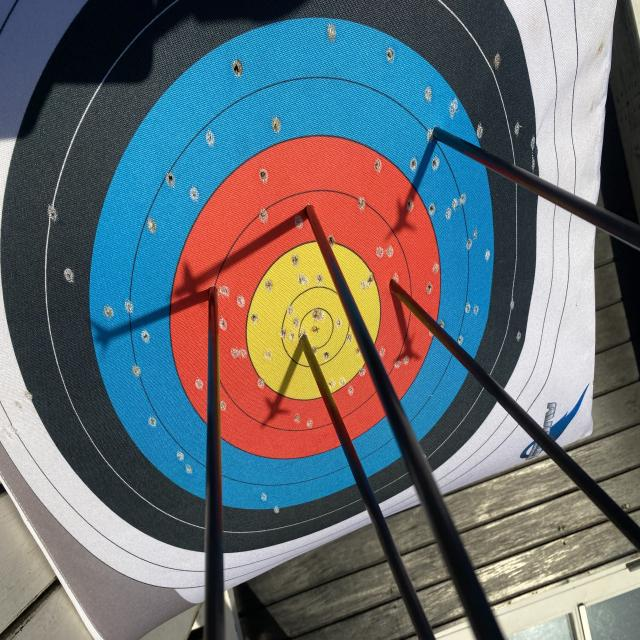Arrow_Blue: (416, 116, 452, 154)
Arrow_Red: (192, 262, 233, 318), (382, 270, 408, 312), (299, 199, 328, 233)
Arrow_Yellow: (293, 324, 317, 356)
